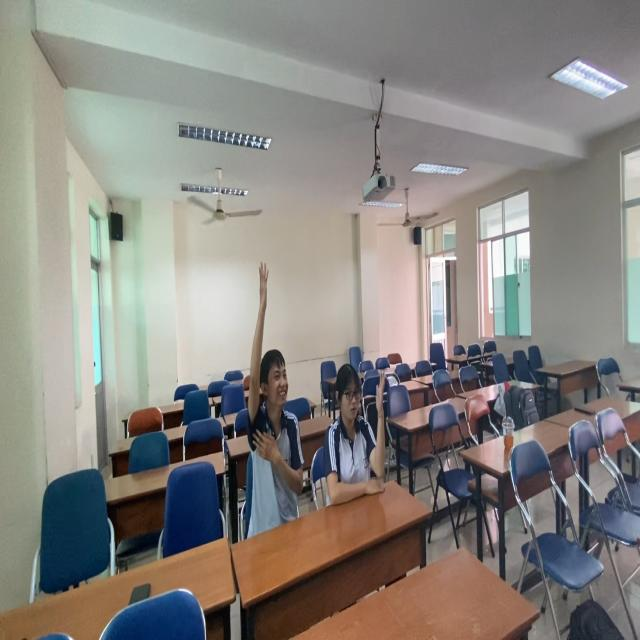raise_hand: (241, 260, 308, 504), (328, 359, 391, 513)
